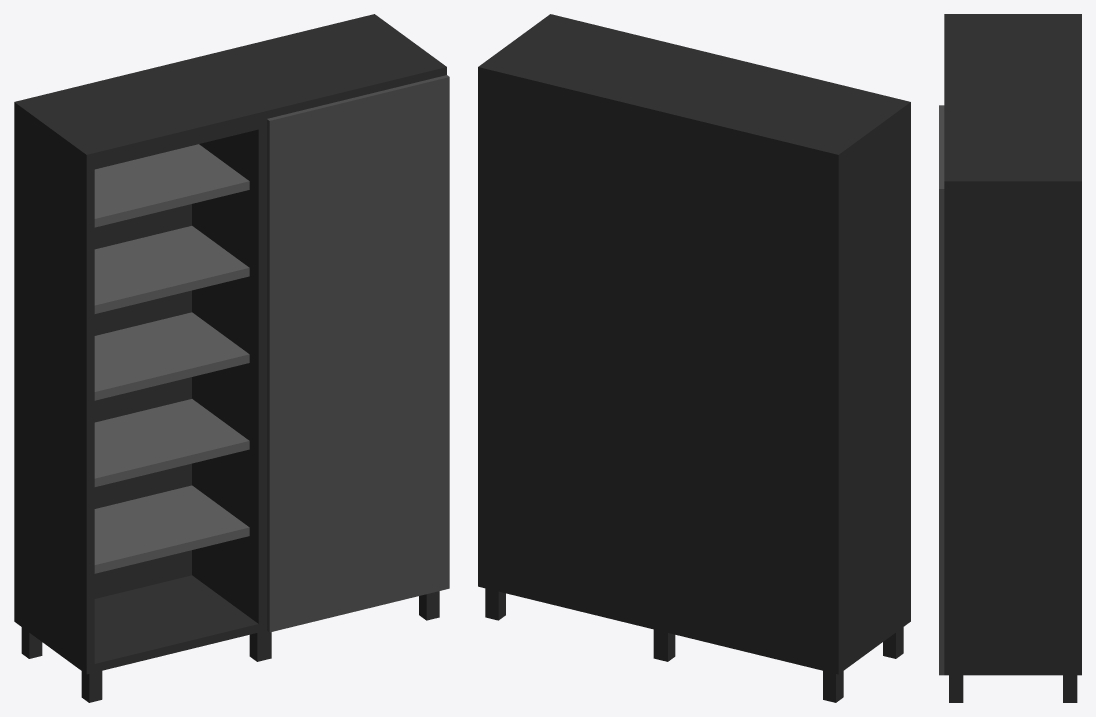
File: Prop_Shelve_05.fbx
The picture shows the model from 3 angles, left to right: view 1: azimuth 30°, elevation 25°; view 2: azimuth 150°, elevation 25°; view 3: azimuth 270°, elevation 25°; orthographic projection. The views are drawn at different scales.
Visible parts, largest first — view 1: Prop_Shelve_05; view 2: Prop_Shelve_05; view 3: Prop_Shelve_05.
Boxes of the visible parts, x1=… form: Prop_Shelve_05: x1=14, y1=14, x2=449, y2=702; Prop_Shelve_05: x1=478, y1=14, x2=910, y2=702; Prop_Shelve_05: x1=939, y1=14, x2=1081, y2=702.
Bounding box in the file's own units: 120 × 175 × 43.29.
